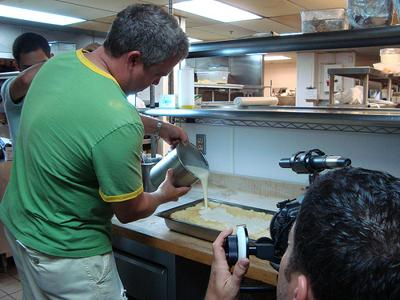person: (2, 4, 193, 300)
